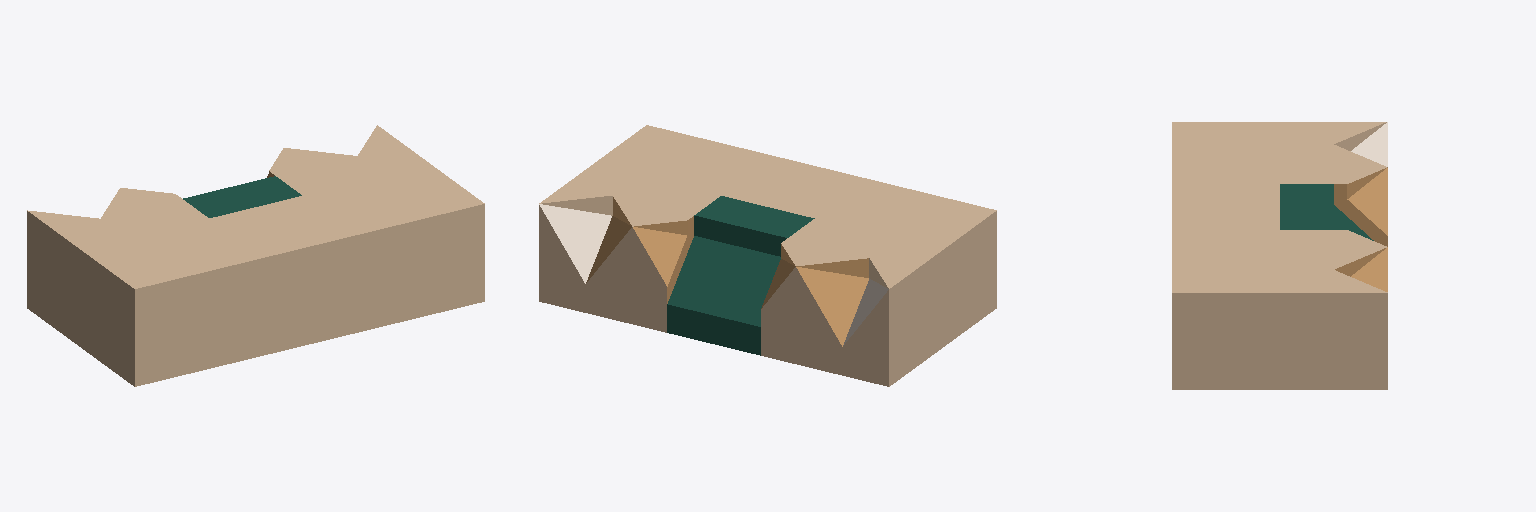
File: Puzzle_Floor_Wall_Conduit_Connector.obj
The picture shows the model from 3 angles: view 1: azimuth 30°, elevation 25°; view 2: azimuth 150°, elevation 25°; view 3: azimuth 270°, elevation 25°; orthographic projection.
Parts seen in each view (by area): view 1: object2, object1; view 2: object2, object1; view 3: object2, object1.
Part boxes in pixels (x1,y1,x2,y2): object2: (27, 125, 484, 386); object1: (183, 176, 301, 217); object2: (539, 125, 996, 386); object1: (667, 196, 814, 355); object2: (1172, 122, 1387, 389); object1: (1280, 184, 1373, 240).
Size of the model in its own units: 0.375 by 0.1 by 0.2.